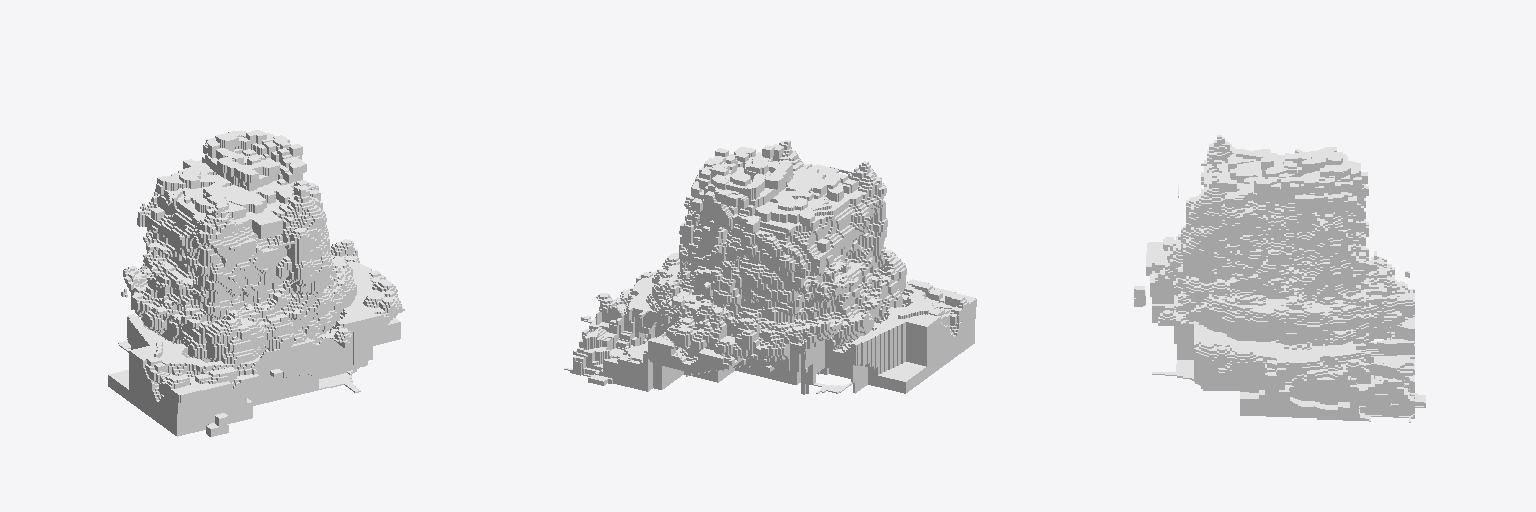
Rendered from Lava_stuff-1.obj.
3 renders of one model, left to right at view 1: azimuth 30°, elevation 25°; view 2: azimuth 150°, elevation 25°; view 3: azimuth 270°, elevation 25°, orthographic.
Parts seen in each view (by area): view 1: object 1; view 2: object 1; view 3: object 1.
Part boxes in pixels (bbox=[...]): object 1: bbox=[108, 130, 404, 436]; object 1: bbox=[564, 140, 976, 394]; object 1: bbox=[1134, 135, 1425, 422].
Bounding box in the file's own units: 25.6 × 17 × 22.6.